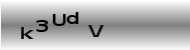3: (34, 18, 48, 33)
U: (51, 12, 66, 28)
V: (87, 23, 104, 38)
d: (66, 10, 78, 25)
k: (19, 25, 34, 42)
